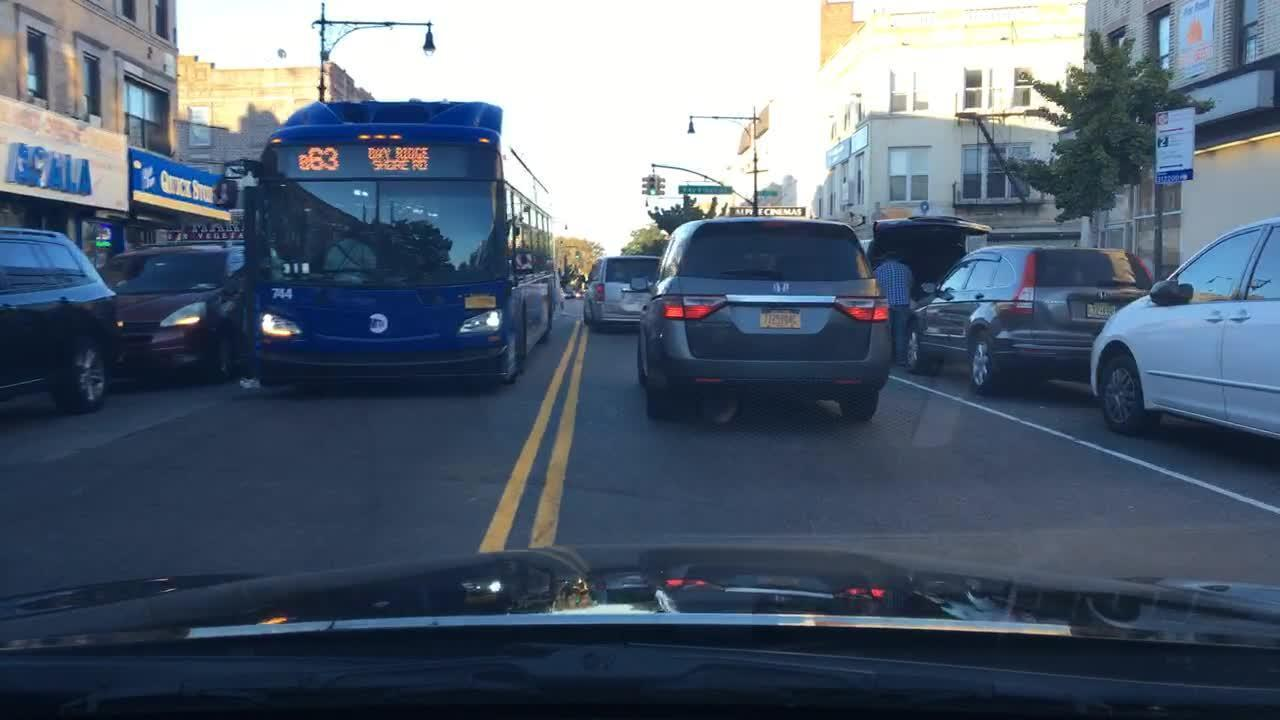Honda: (764, 271, 801, 304)
